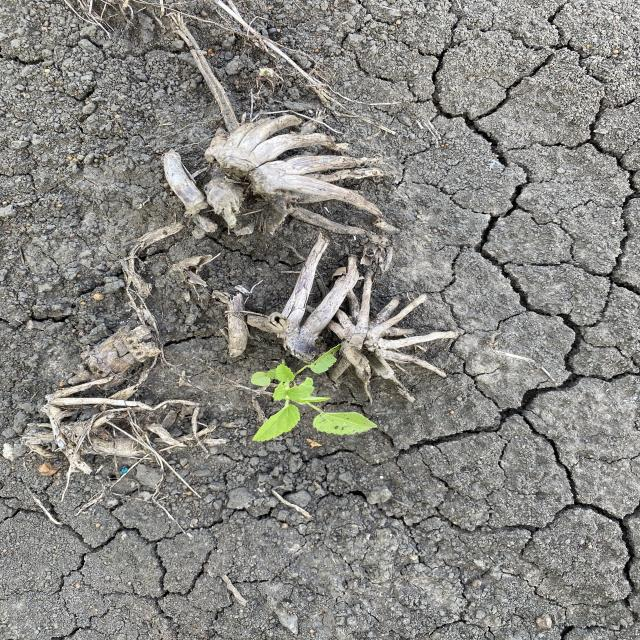PricklySida: (249, 339, 382, 444)
